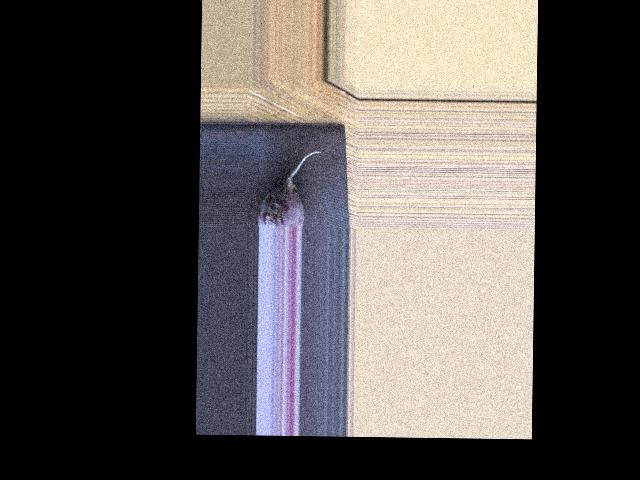beet: (257, 150, 320, 228)
